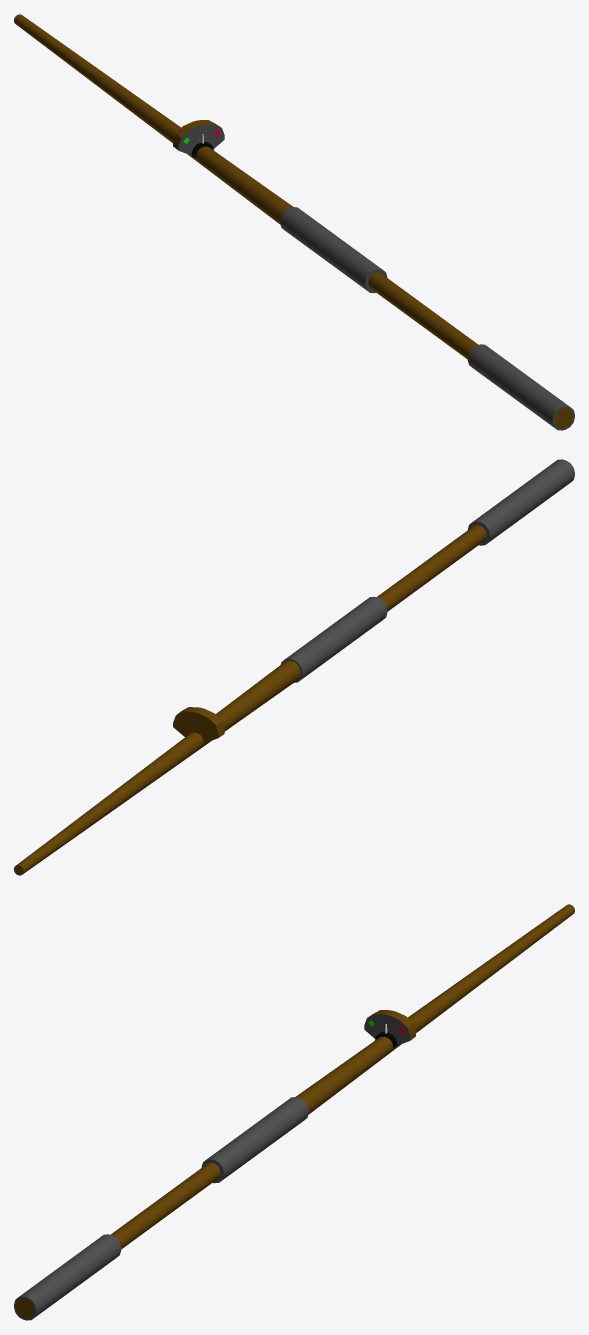
File: BilliardCue.fbx
3 views of the same model, one above another, from view 1: azimuth 30°, elevation 25°; view 2: azimuth 150°, elevation 25°; view 3: azimuth 330°, elevation 25° (orthographic).
Visible parts, largest first — view 1: Cue; view 2: Cue; view 3: Cue.
Boxes of the visible parts, x1,y1,x2,y2 form: Cue: (14, 14, 574, 430); Cue: (14, 459, 574, 875); Cue: (14, 904, 574, 1320).
Bounding box in the file's own units: 0.0974 × 0.0812 × 2.
